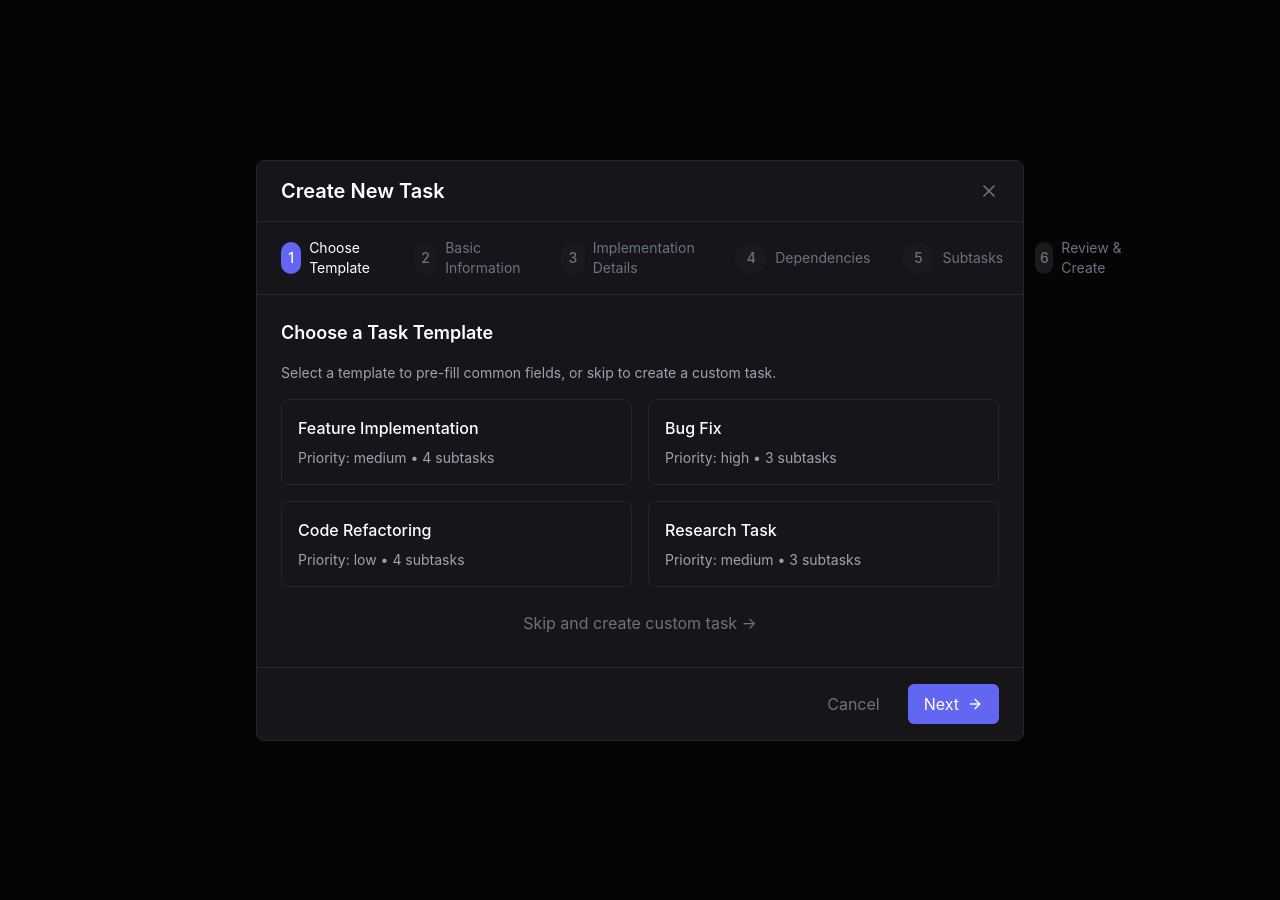
Test: TaskCreationWizard › validates required fields
// Skip template
What coordinates should you click on to do the following:
click the button "Skip and create custom task →"
I would click on:
 (640, 622)
Its box is [281,602,999,642].
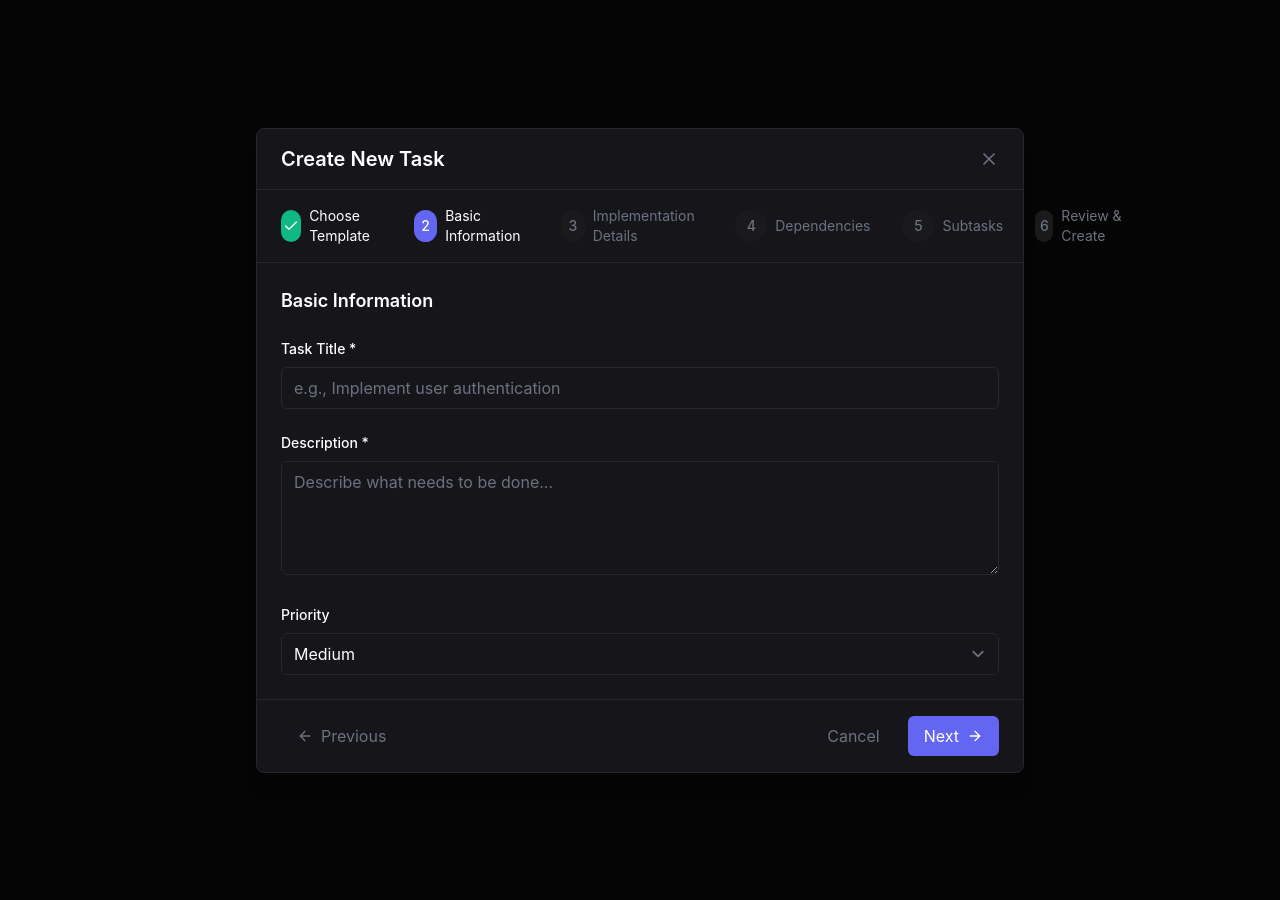
// Try to proceed without filling required fields
What coordinates should you click on to do the following:
click the button "Next"
I would click on:
 (953, 736)
Its box is [908,716,999,756].
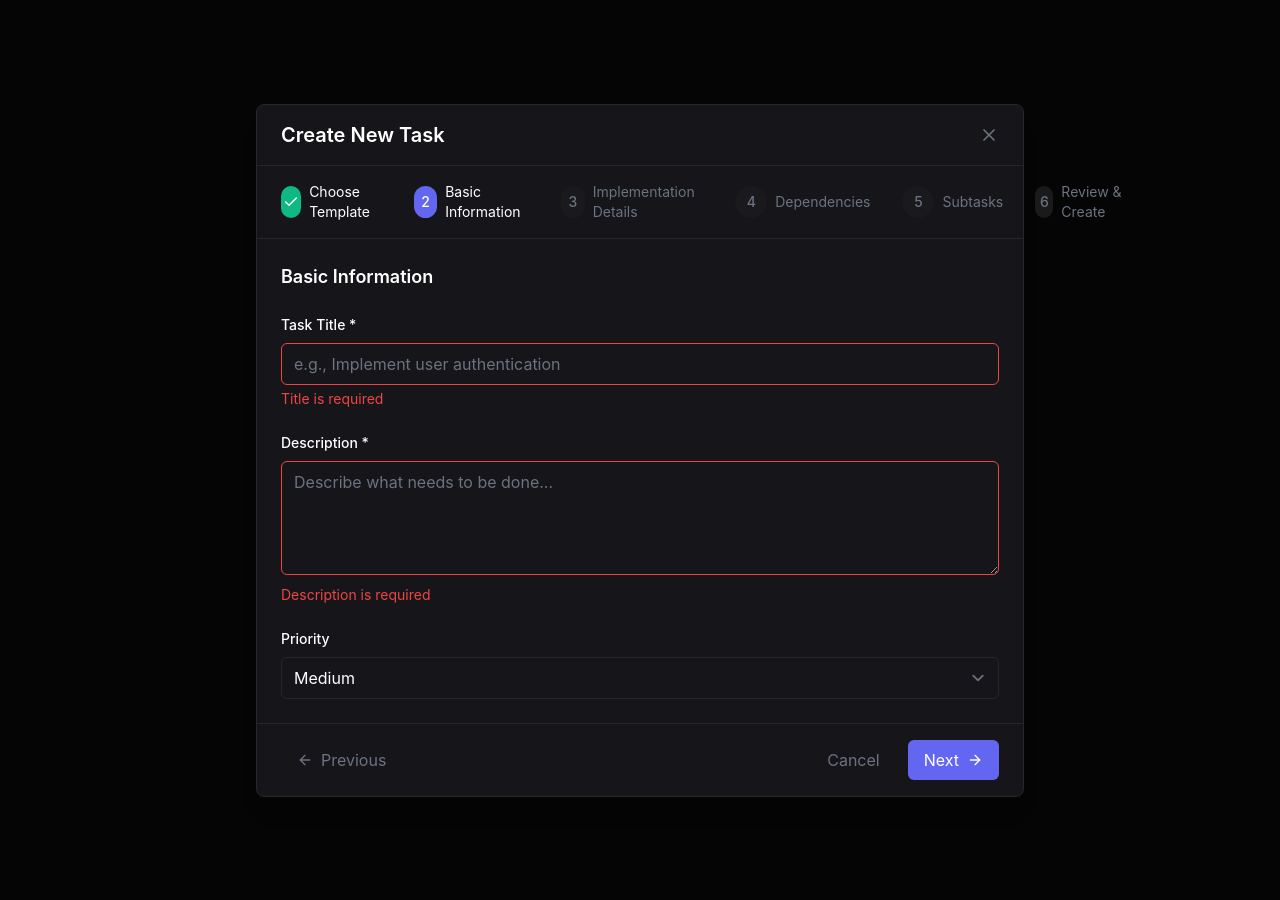
Expected: the text "Title is required" is shown, [281,390,383,406]
Expected: the text "Description is required" is shown, [281,586,430,602]
